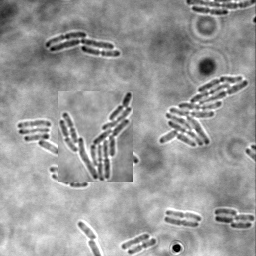Dividing: (52, 175, 89, 189), (128, 238, 157, 255), (166, 209, 202, 222), (164, 217, 200, 228), (192, 7, 229, 17)
Microcolony: (58, 91, 133, 182), (158, 76, 249, 147), (45, 32, 121, 57), (18, 120, 58, 155), (214, 208, 255, 229)
Rod: (121, 233, 150, 251), (78, 222, 99, 240)
